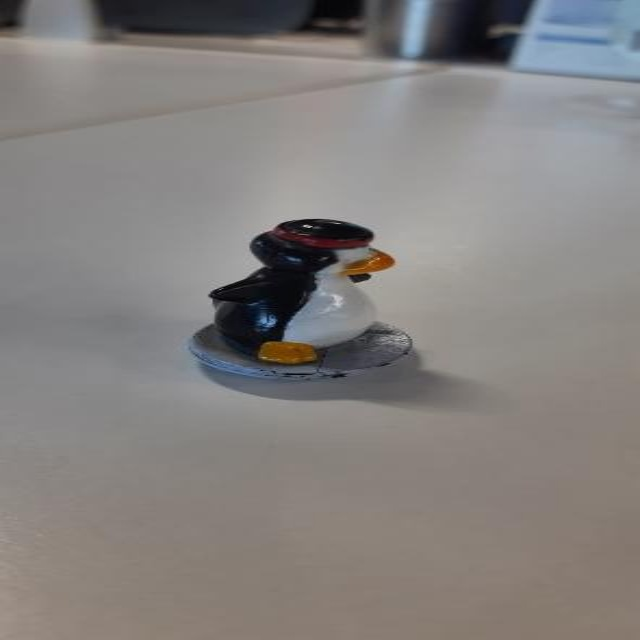Penguin: (187, 204, 521, 412)
